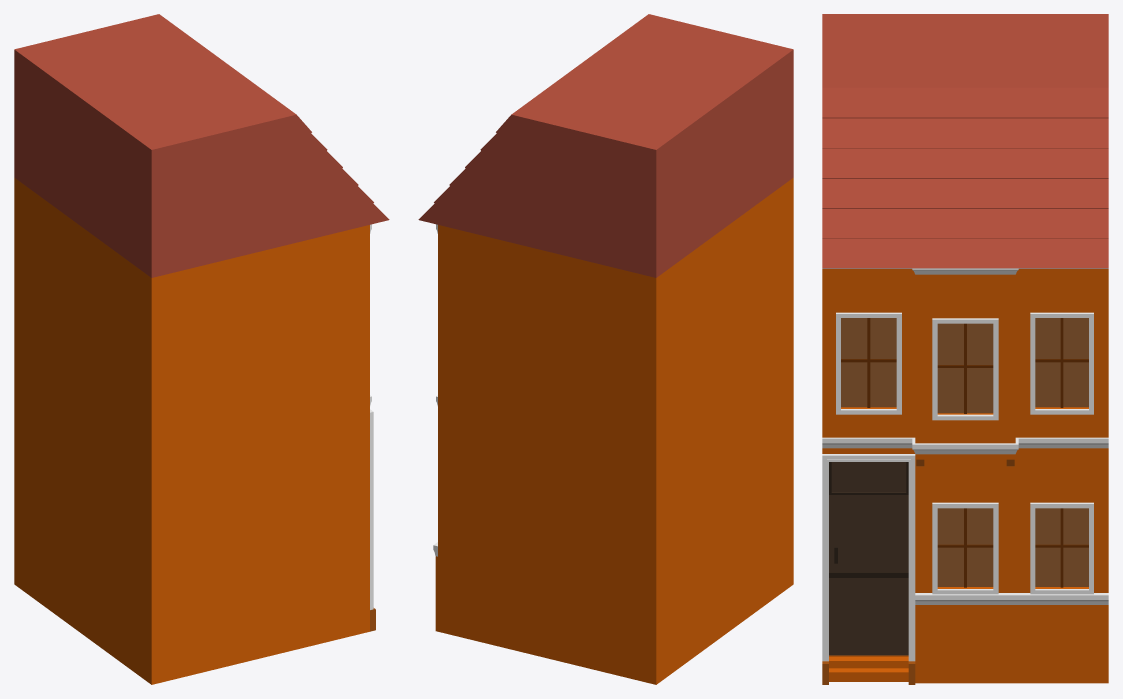
File: House New.fbx
3 renders of one model, left to right at view 1: azimuth 30°, elevation 25°; view 2: azimuth 150°, elevation 25°; view 3: azimuth 270°, elevation 25°, orthographic. The views are drawn at different scales.
Parts seen in each view (by area): view 1: Body; view 2: Body; view 3: Body.
Part boxes in pixels (x1=…): Body: x1=14, y1=14, x2=389, y2=684; Body: x1=418, y1=14, x2=793, y2=684; Body: x1=822, y1=14, x2=1108, y2=684.
Bounding box in the file's own units: 300 × 644 × 300.
